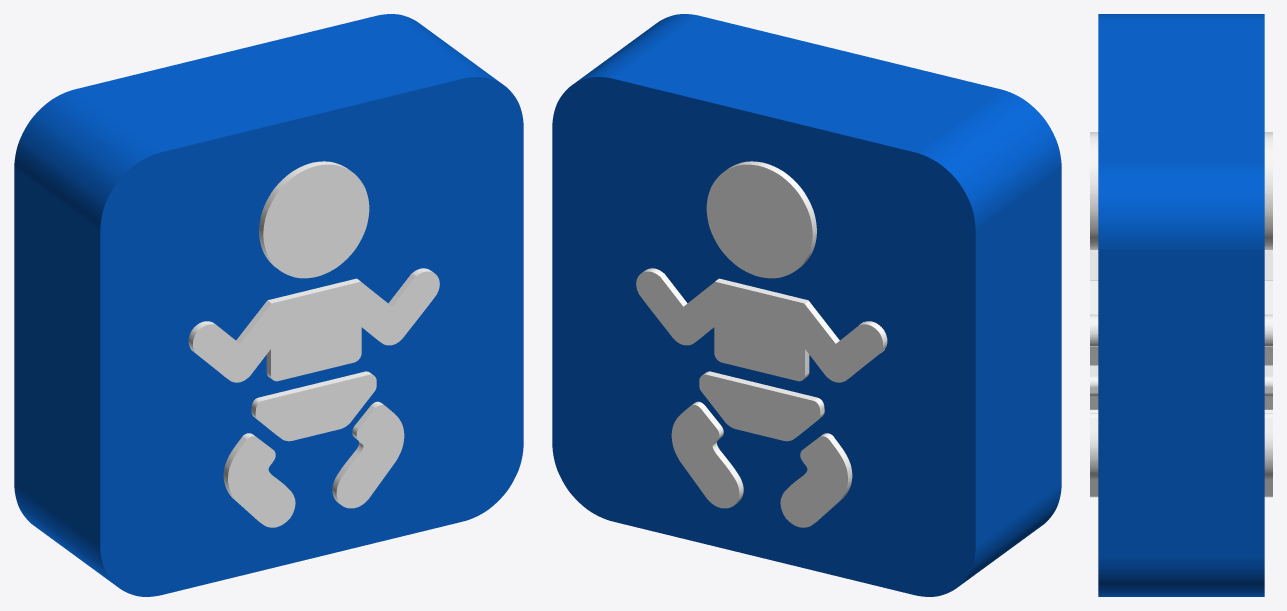
The picture shows the model from 3 angles, left to right: view 1: azimuth 30°, elevation 25°; view 2: azimuth 150°, elevation 25°; view 3: azimuth 270°, elevation 25°; orthographic projection. The views are drawn at different scales.
Visible parts, largest first — view 1: U+1F6BC_layer00_obj00, U+1F6BC_layer01_obj00; view 2: U+1F6BC_layer00_obj00, U+1F6BC_layer01_obj00; view 3: U+1F6BC_layer00_obj00, U+1F6BC_layer01_obj00.
Boxes of the visible parts, left/top/right/bottom form: U+1F6BC_layer00_obj00: left=14, top=14, right=523, bottom=596; U+1F6BC_layer01_obj00: left=188, top=161, right=439, bottom=527; U+1F6BC_layer00_obj00: left=552, top=14, right=1061, bottom=596; U+1F6BC_layer01_obj00: left=636, top=161, right=887, bottom=527; U+1F6BC_layer00_obj00: left=1098, top=14, right=1264, bottom=596; U+1F6BC_layer01_obj00: left=1090, top=132, right=1272, bottom=497.
Bounding box in the file's own units: 0.5678 × 0.5677 × 0.22.
